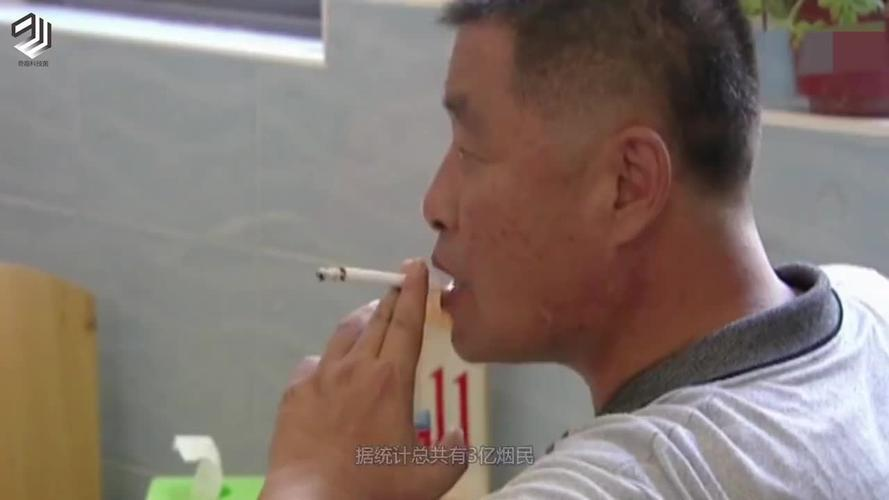smoke: (317, 267, 431, 290)
